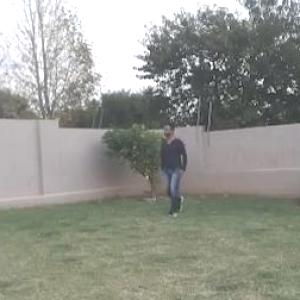follow: (160, 119, 192, 220)
